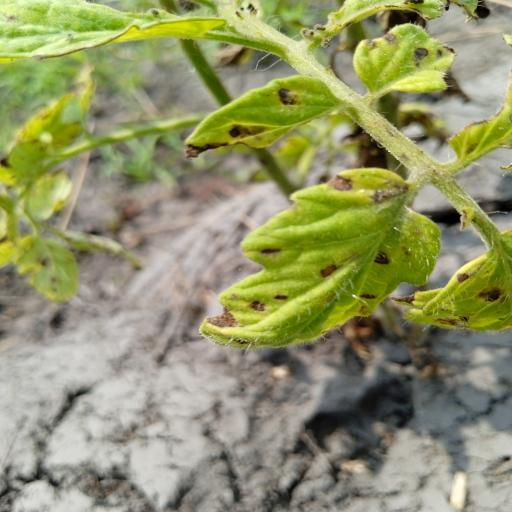Tomato_Brown_Spots: (198, 166, 444, 354), (181, 74, 341, 160), (409, 226, 512, 332), (352, 22, 459, 105)
